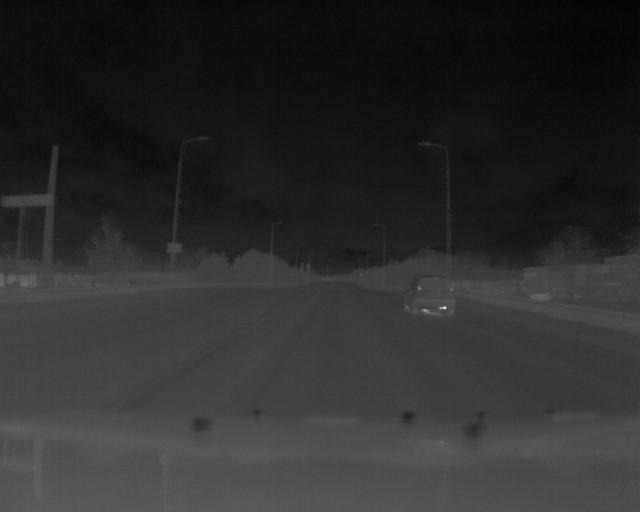car: (400, 275, 460, 318)
